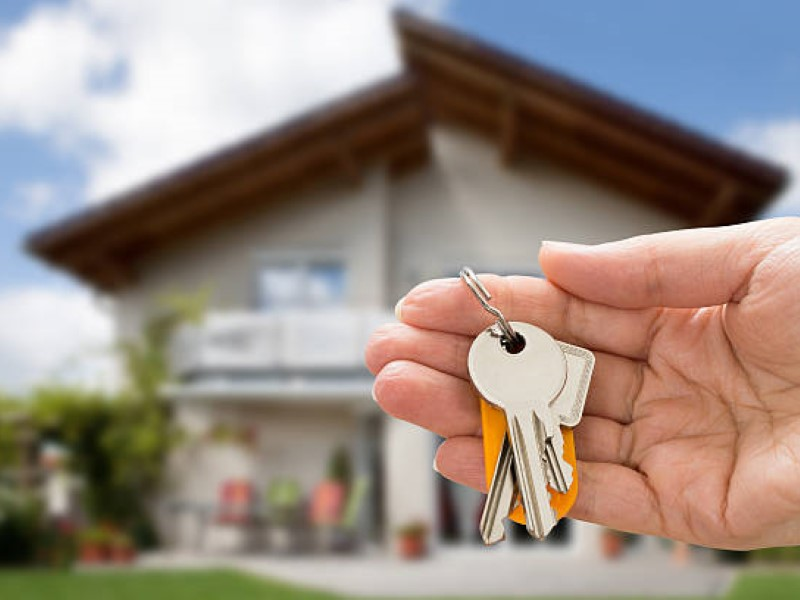key: (459, 322, 601, 544)
